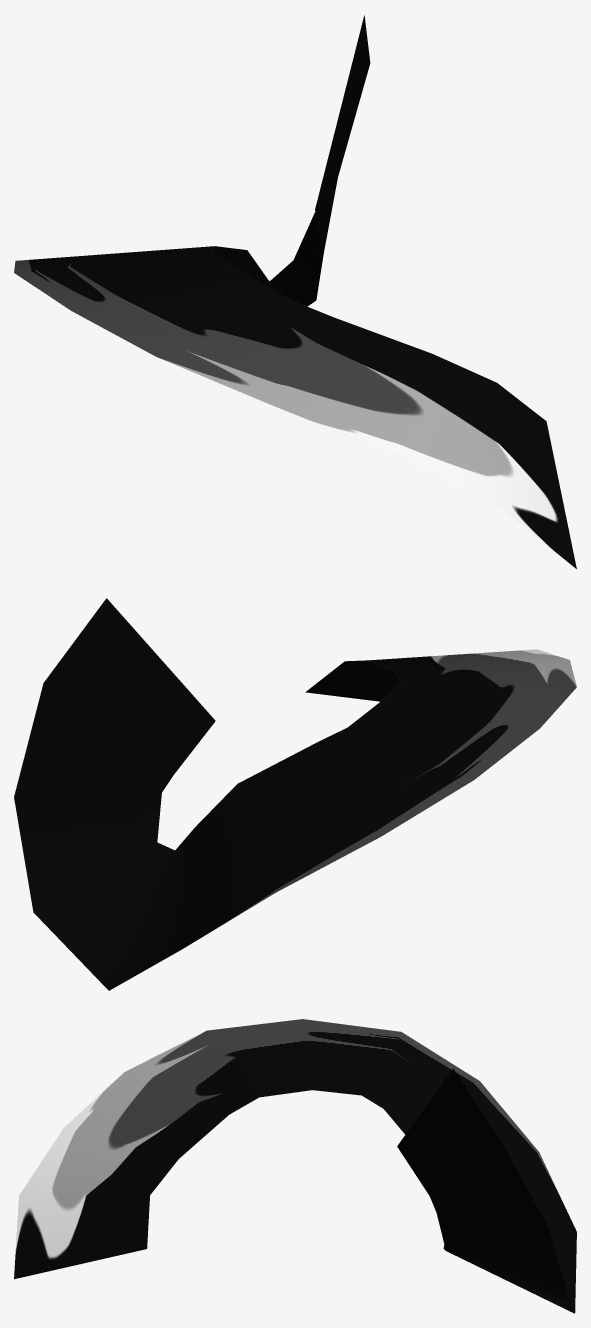
The model's file is slas.FBX.
The picture shows the model from 3 angles, top to bottom: view 1: azimuth 30°, elevation 25°; view 2: azimuth 150°, elevation 25°; view 3: azimuth 270°, elevation 25°; orthographic projection. The views are drawn at different scales.
Visible parts, largest first — view 1: Slash_; view 2: Slash_; view 3: Slash_.
Part boxes in pixels (bbox=[...]): Slash_: bbox=[14, 15, 576, 568]; Slash_: bbox=[14, 598, 576, 990]; Slash_: bbox=[14, 1019, 576, 1313].
Size of the model in its own units: 1014 by 818 by 1511.
